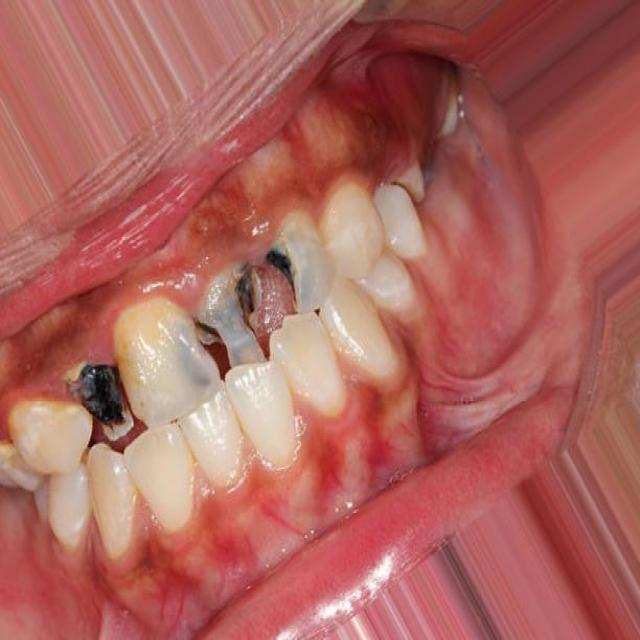caries: (189, 264, 268, 385), (266, 210, 330, 313), (69, 348, 135, 447)
